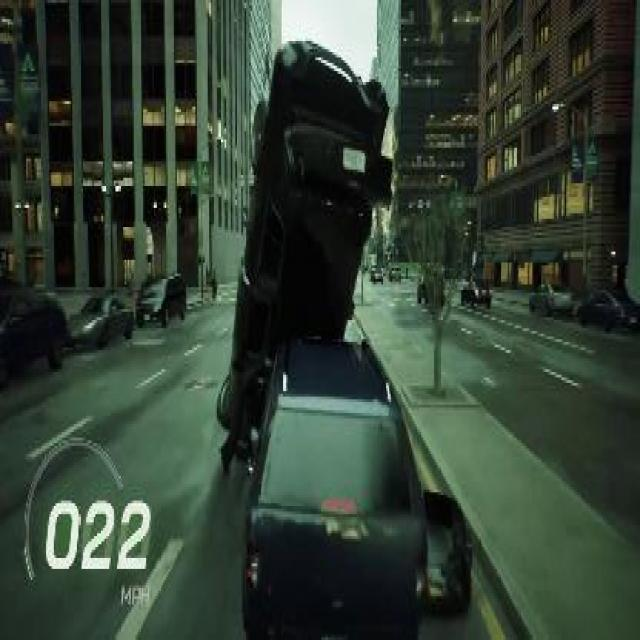accident: (210, 35, 461, 640)
